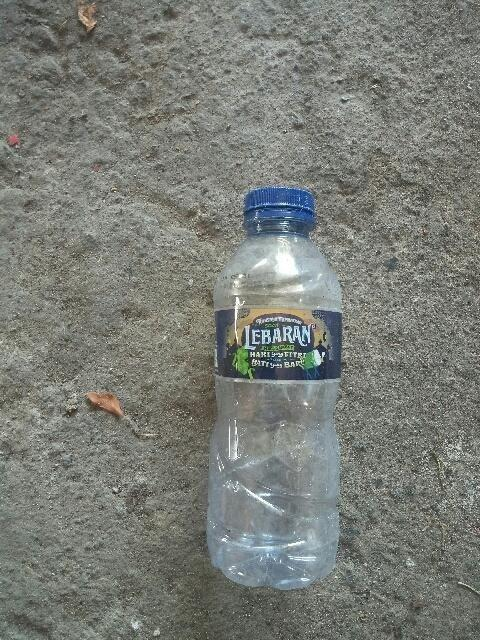bottle-plastic: (205, 186, 346, 594)
